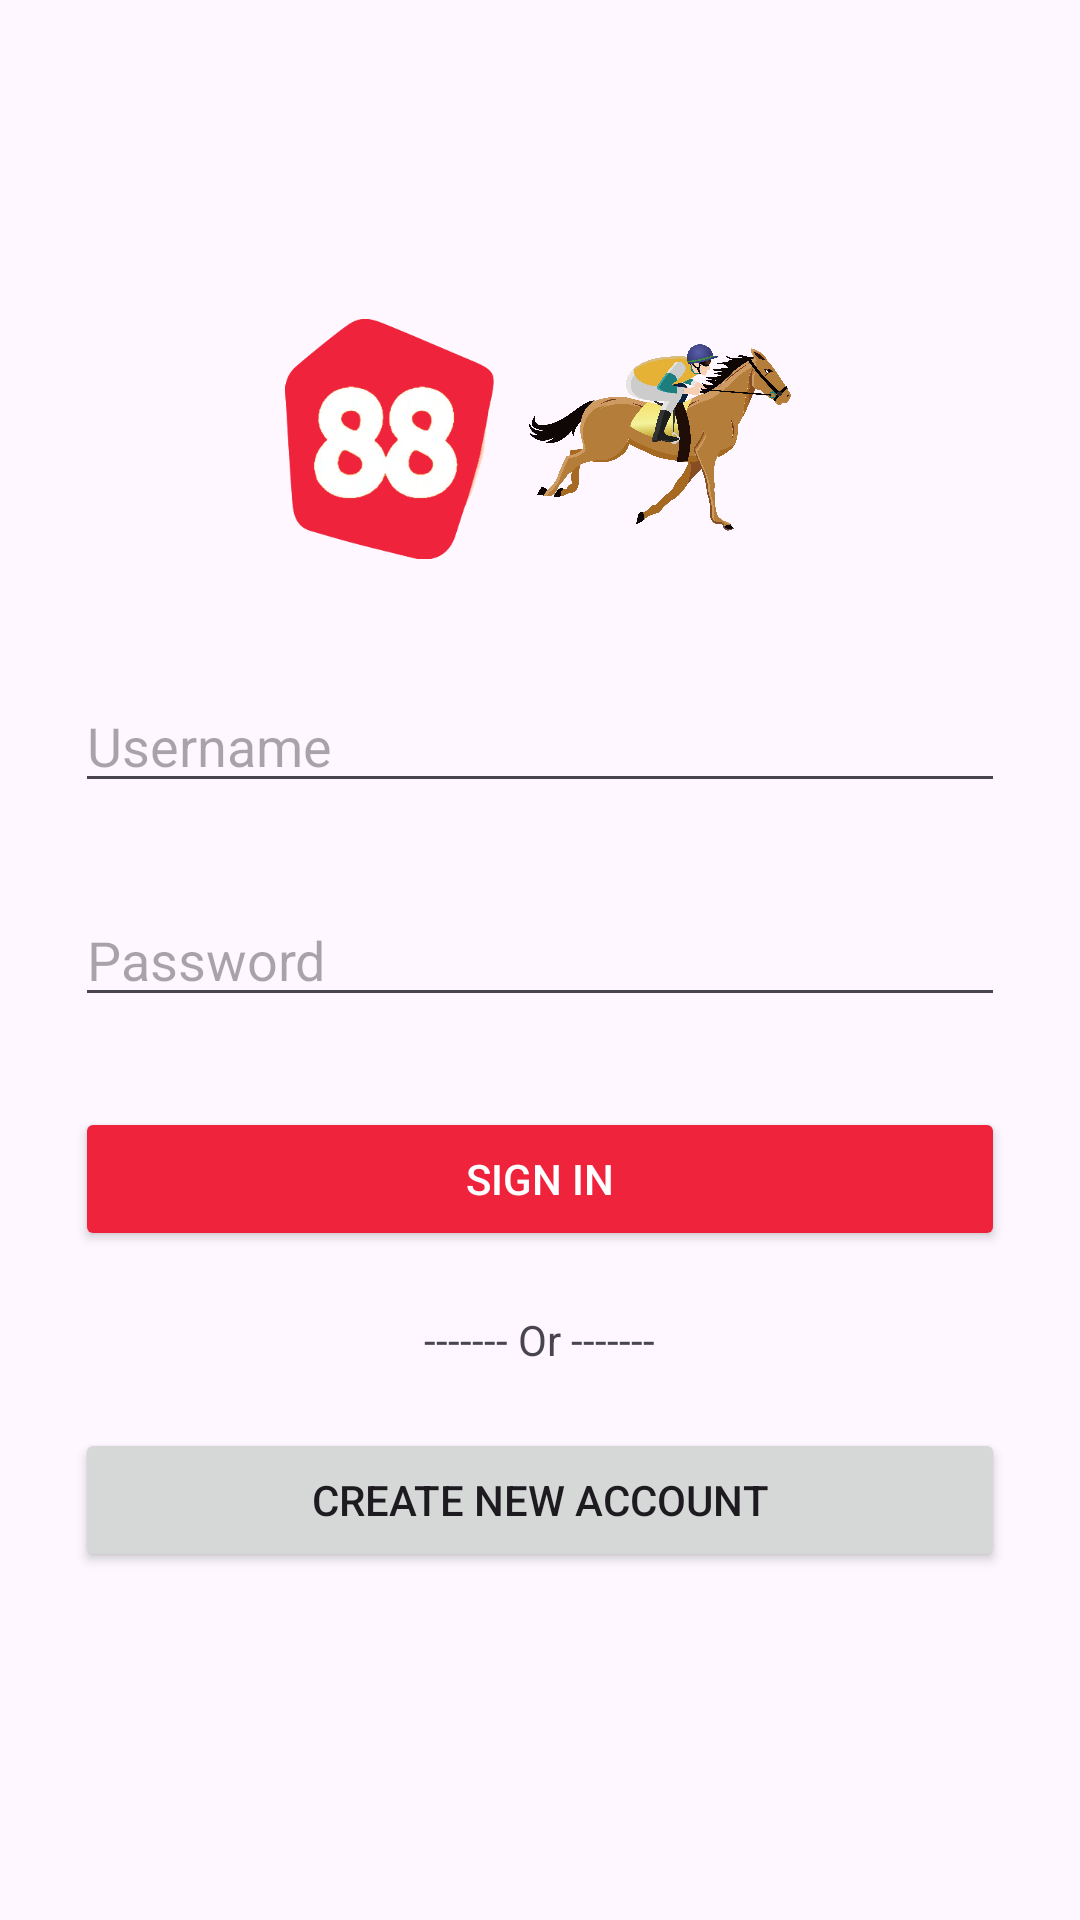

Icon bounding boxes for this 1080×1920 phone screenshot, format (x1, y1, x2, y2):
88bet: (285, 319, 494, 559)
horse race: (529, 344, 791, 531)
